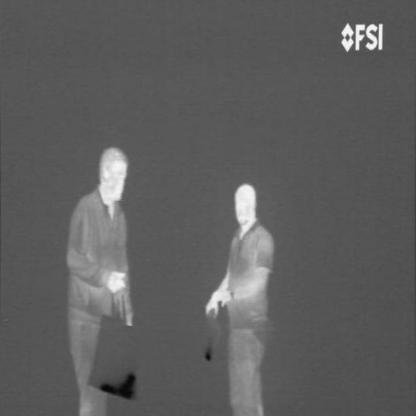weapon: (100, 369, 140, 402)
